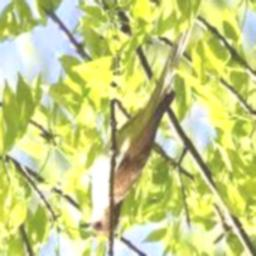Cuckoo: (79, 17, 195, 238)
